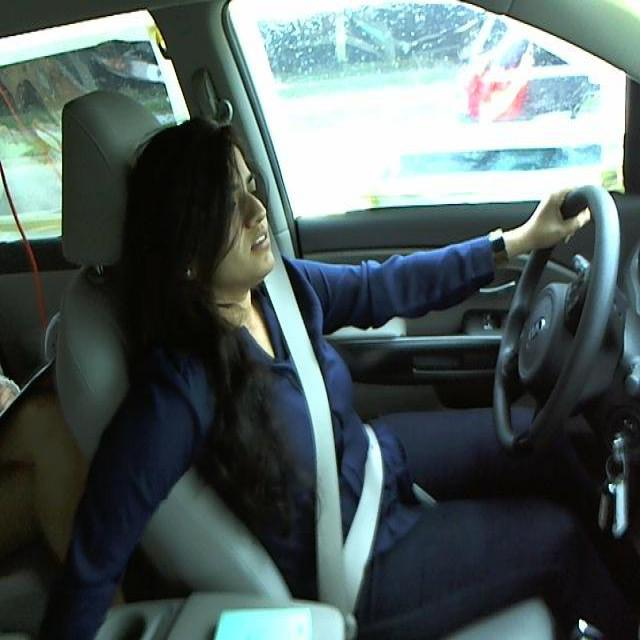seatbelt: (249, 293, 404, 600)
